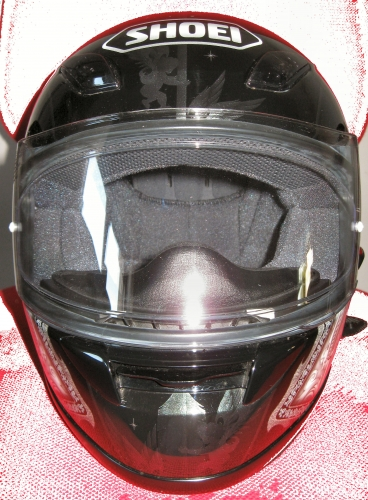helmet: (7, 41, 356, 433)
